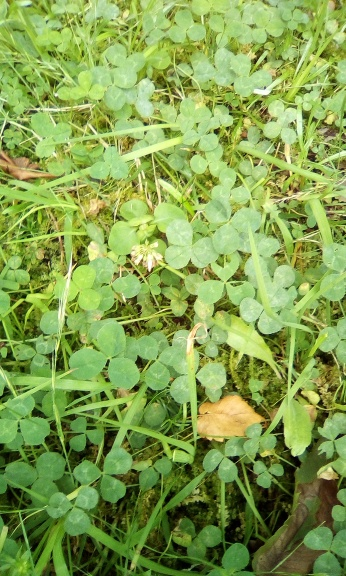4leaf: (164, 219, 220, 270)
